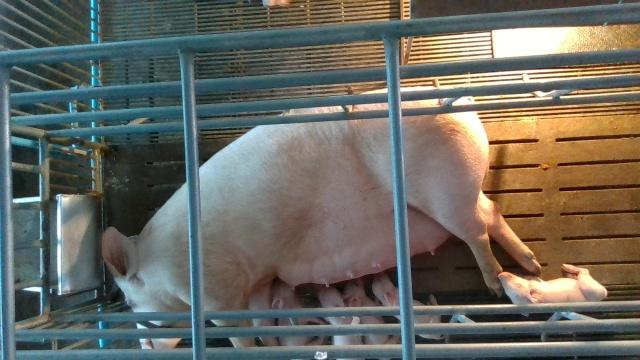piglet: (499, 264, 607, 317), (342, 276, 402, 360), (373, 270, 444, 340), (313, 285, 366, 360), (271, 283, 328, 345)
sow-sleep-lactate: (102, 85, 544, 350)
